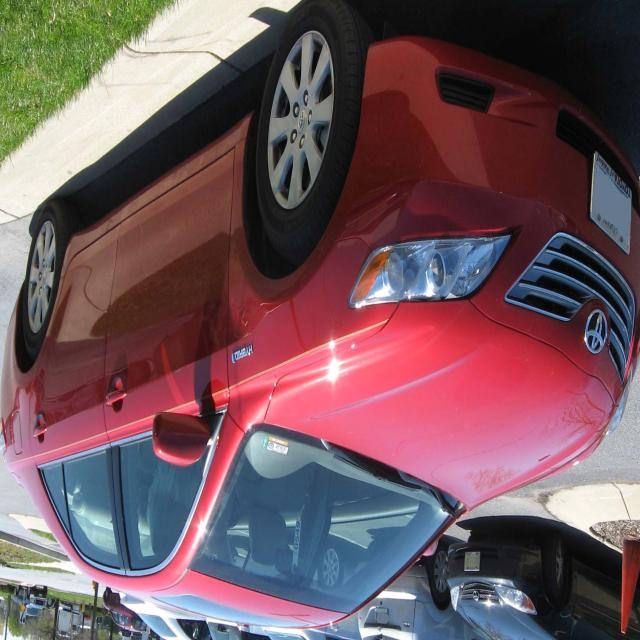red: (0, 23, 640, 624)
